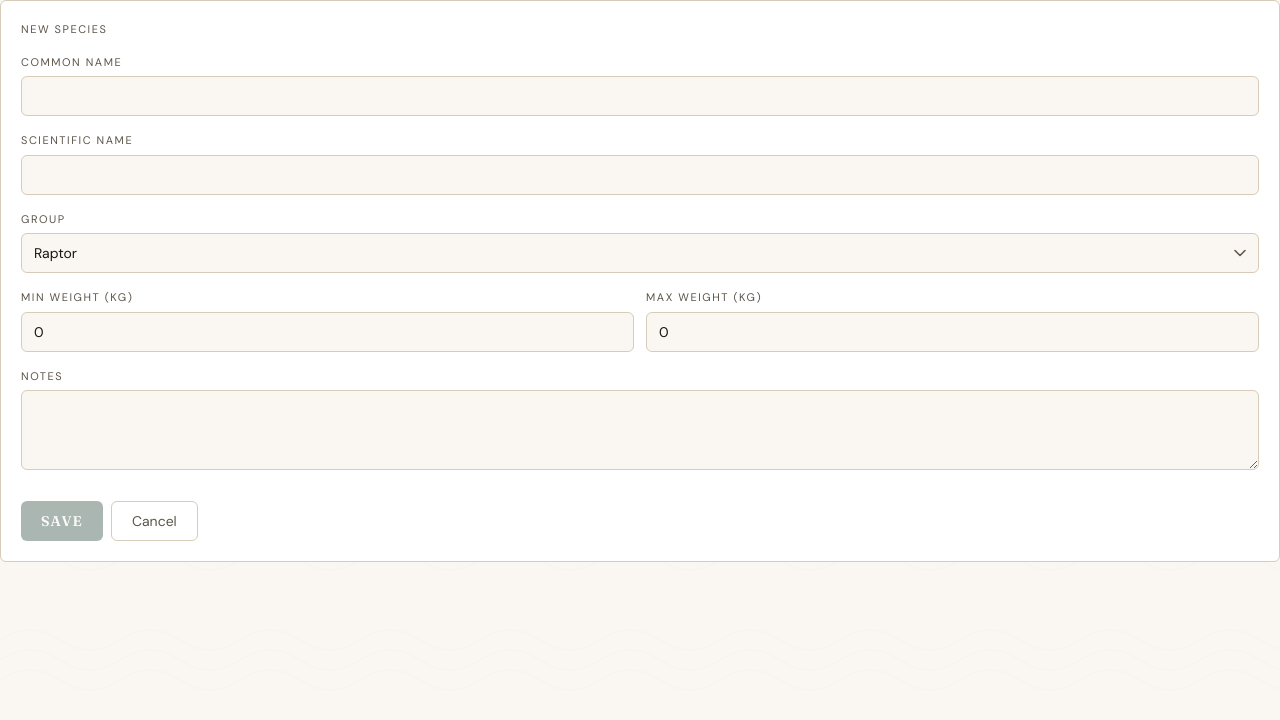
Test case: SpeciesEditor › blocks a slug that is already taken
The width and height of the screenshot is (1280, 720).
Type "Red-tailed Hawk" into the field labelled "Common name" at [640, 96], box [21,76,1259,116]
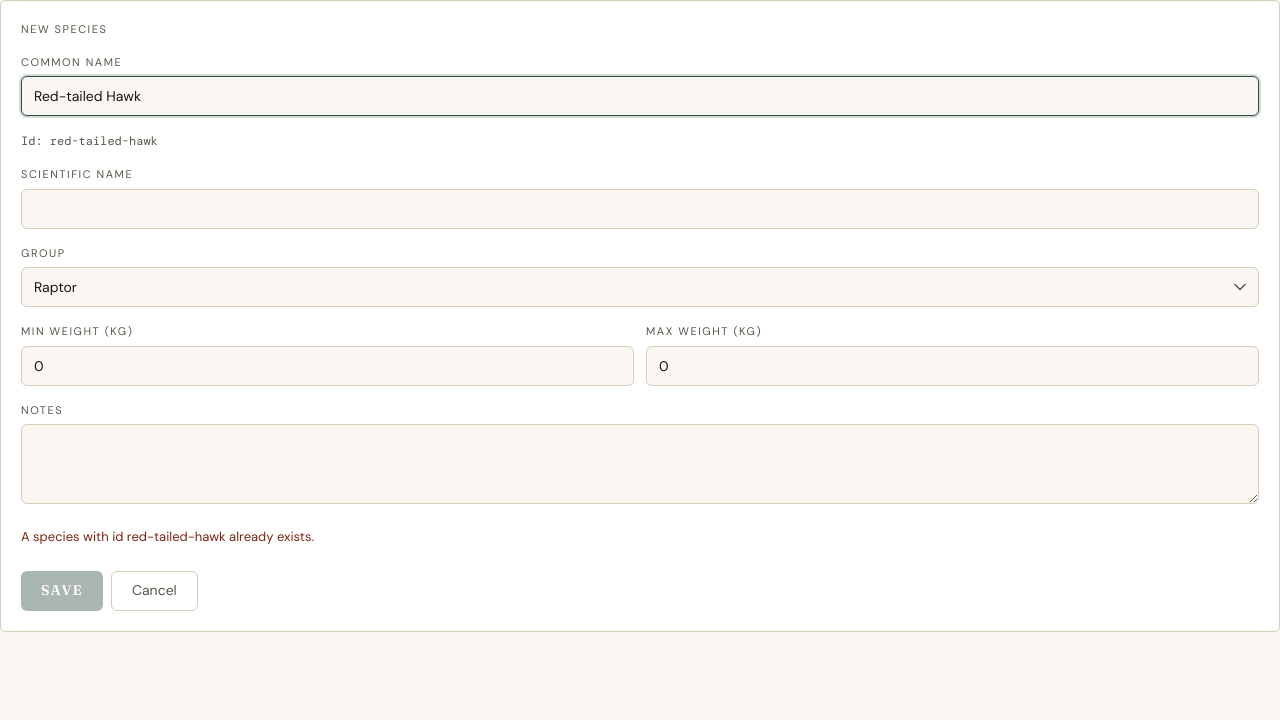
Expected: the button "Save" is disabled, [21,570,103,610]
Expected: the text "A species with id red-tailed-hawk already exists." is shown, [21,528,314,545]
